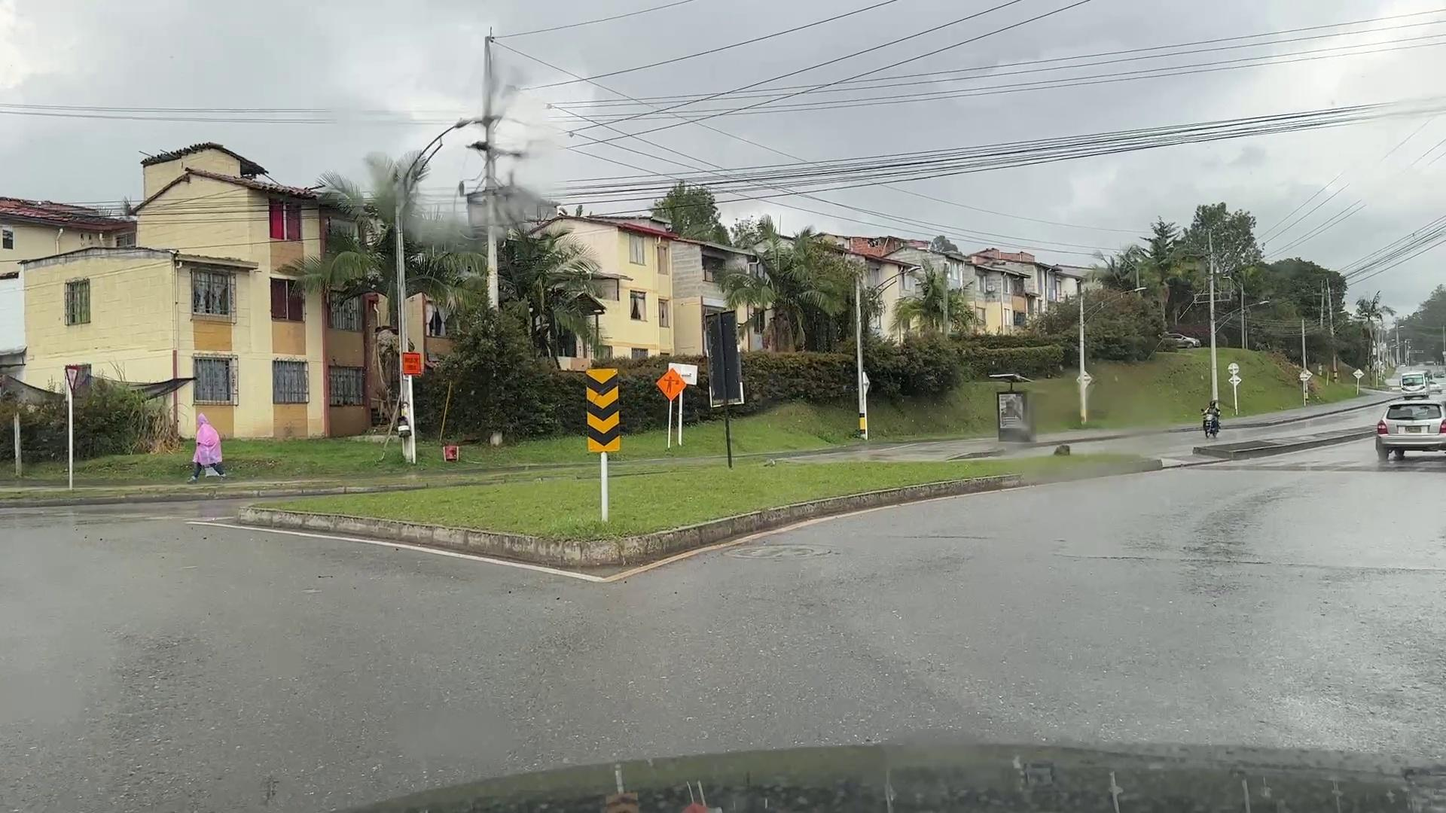registro: (737, 547, 814, 557)
